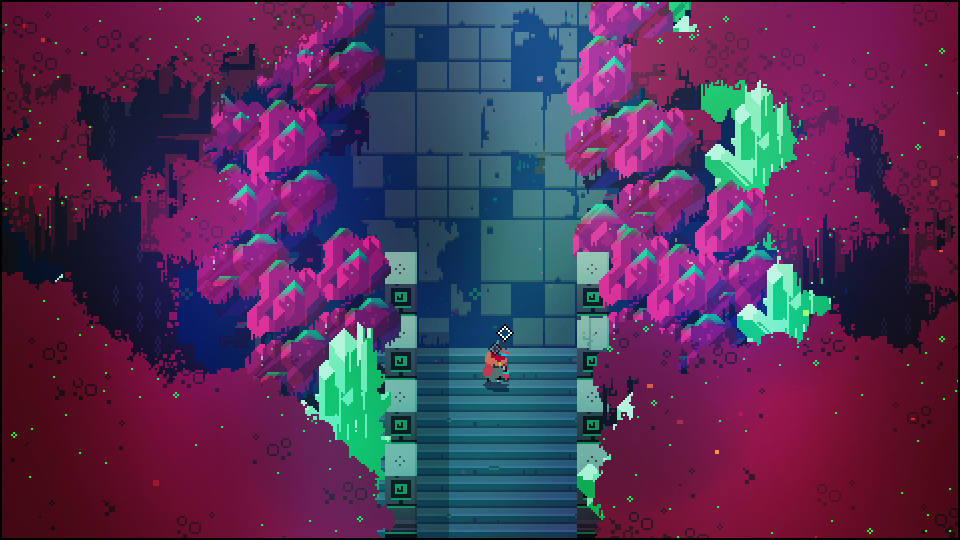player: (481, 344, 506, 388)
